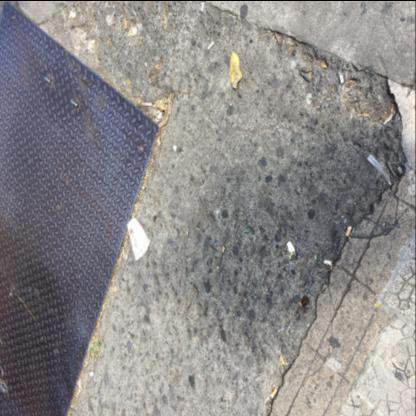Cigarette: (271, 386, 278, 397), (346, 225, 352, 236), (208, 40, 215, 49), (324, 258, 332, 264), (280, 356, 286, 364), (201, 1, 205, 10), (144, 102, 152, 105)
Cup: (128, 218, 150, 260)
Other plastic: (367, 154, 391, 184), (386, 159, 396, 177)
Unlabeled litter: (287, 241, 295, 252)
